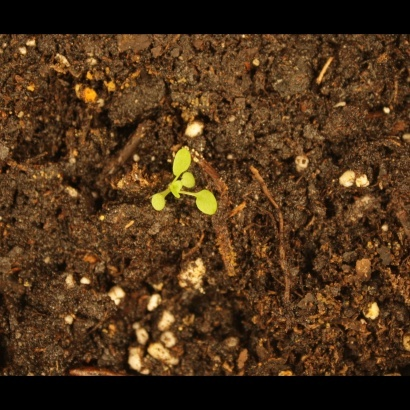leaf: (168, 144, 196, 176), (195, 188, 221, 219), (166, 180, 191, 203), (146, 192, 169, 215), (177, 167, 200, 190)
